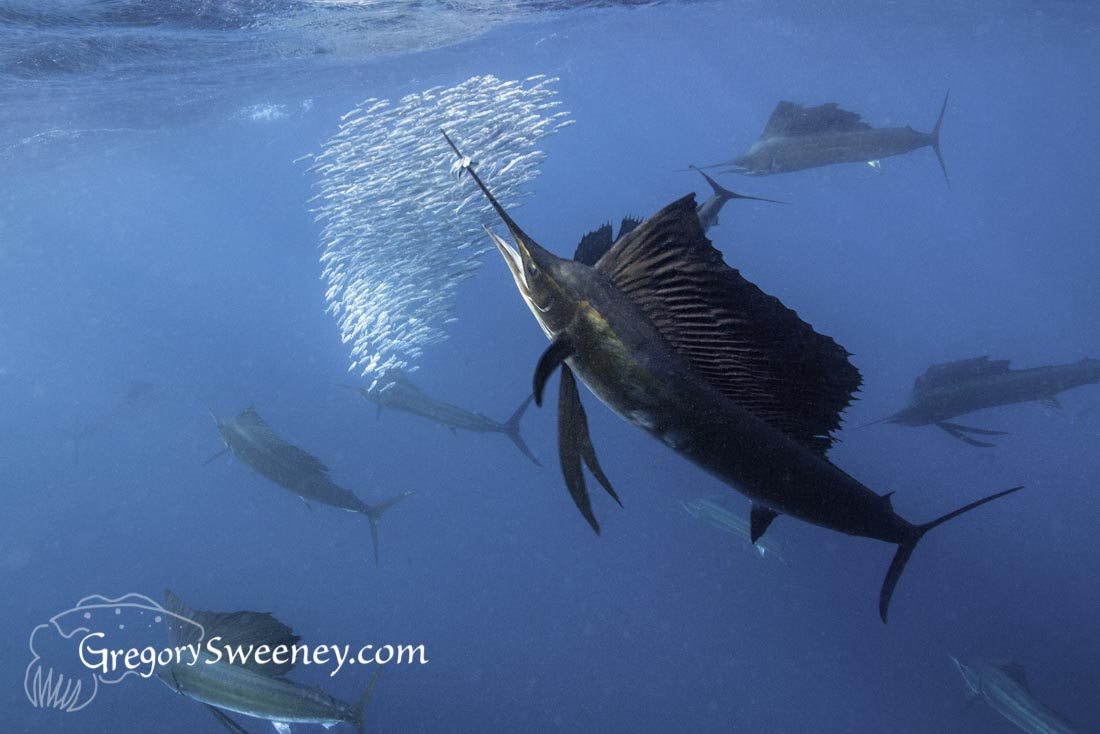swordfish: (404, 110, 987, 632)
